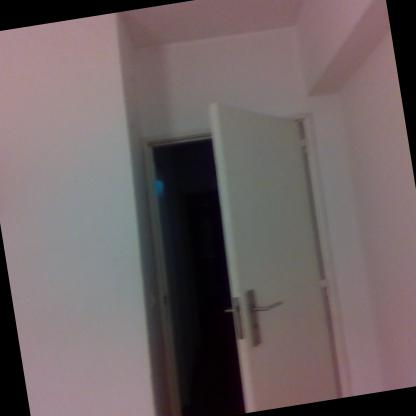semi: (135, 98, 358, 415)
